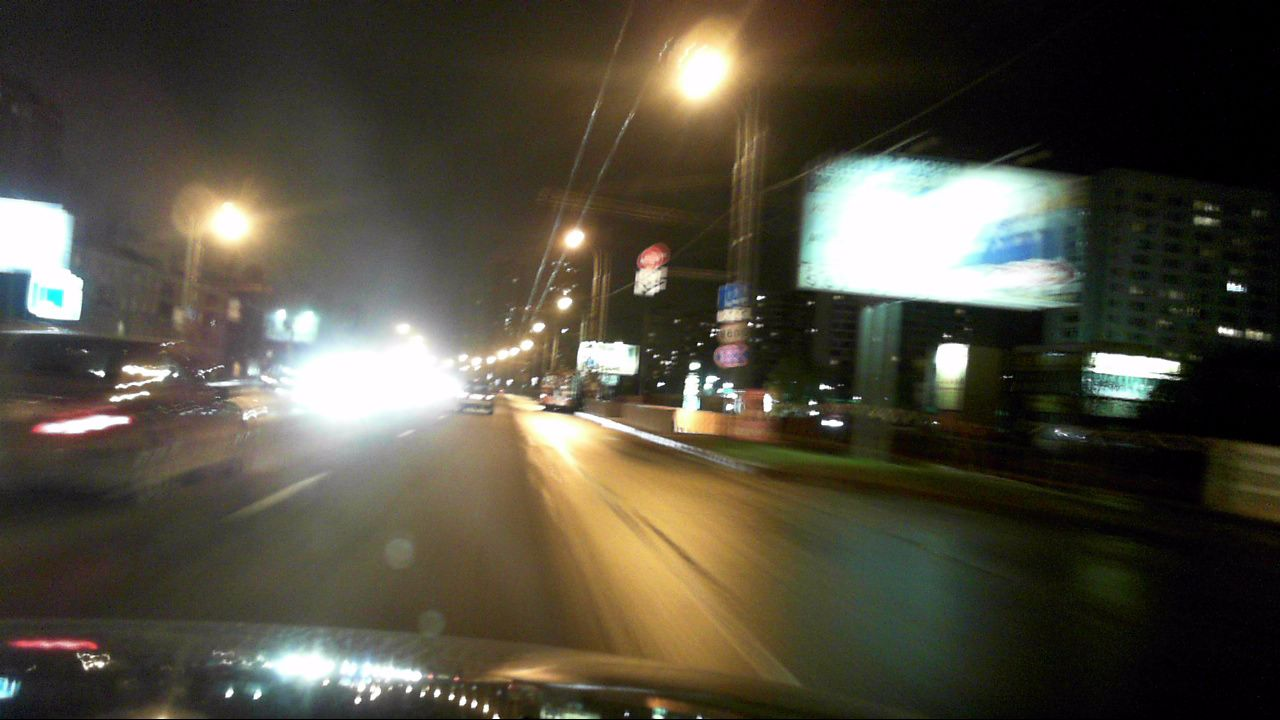No Parking: (720, 345, 744, 366)
